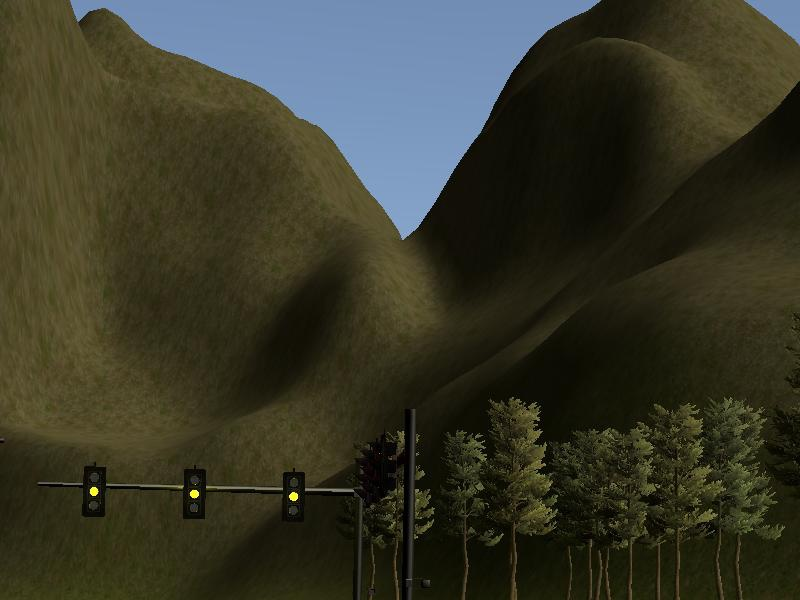Yellow: (82, 463, 107, 516), (182, 467, 207, 520), (281, 470, 306, 523)
